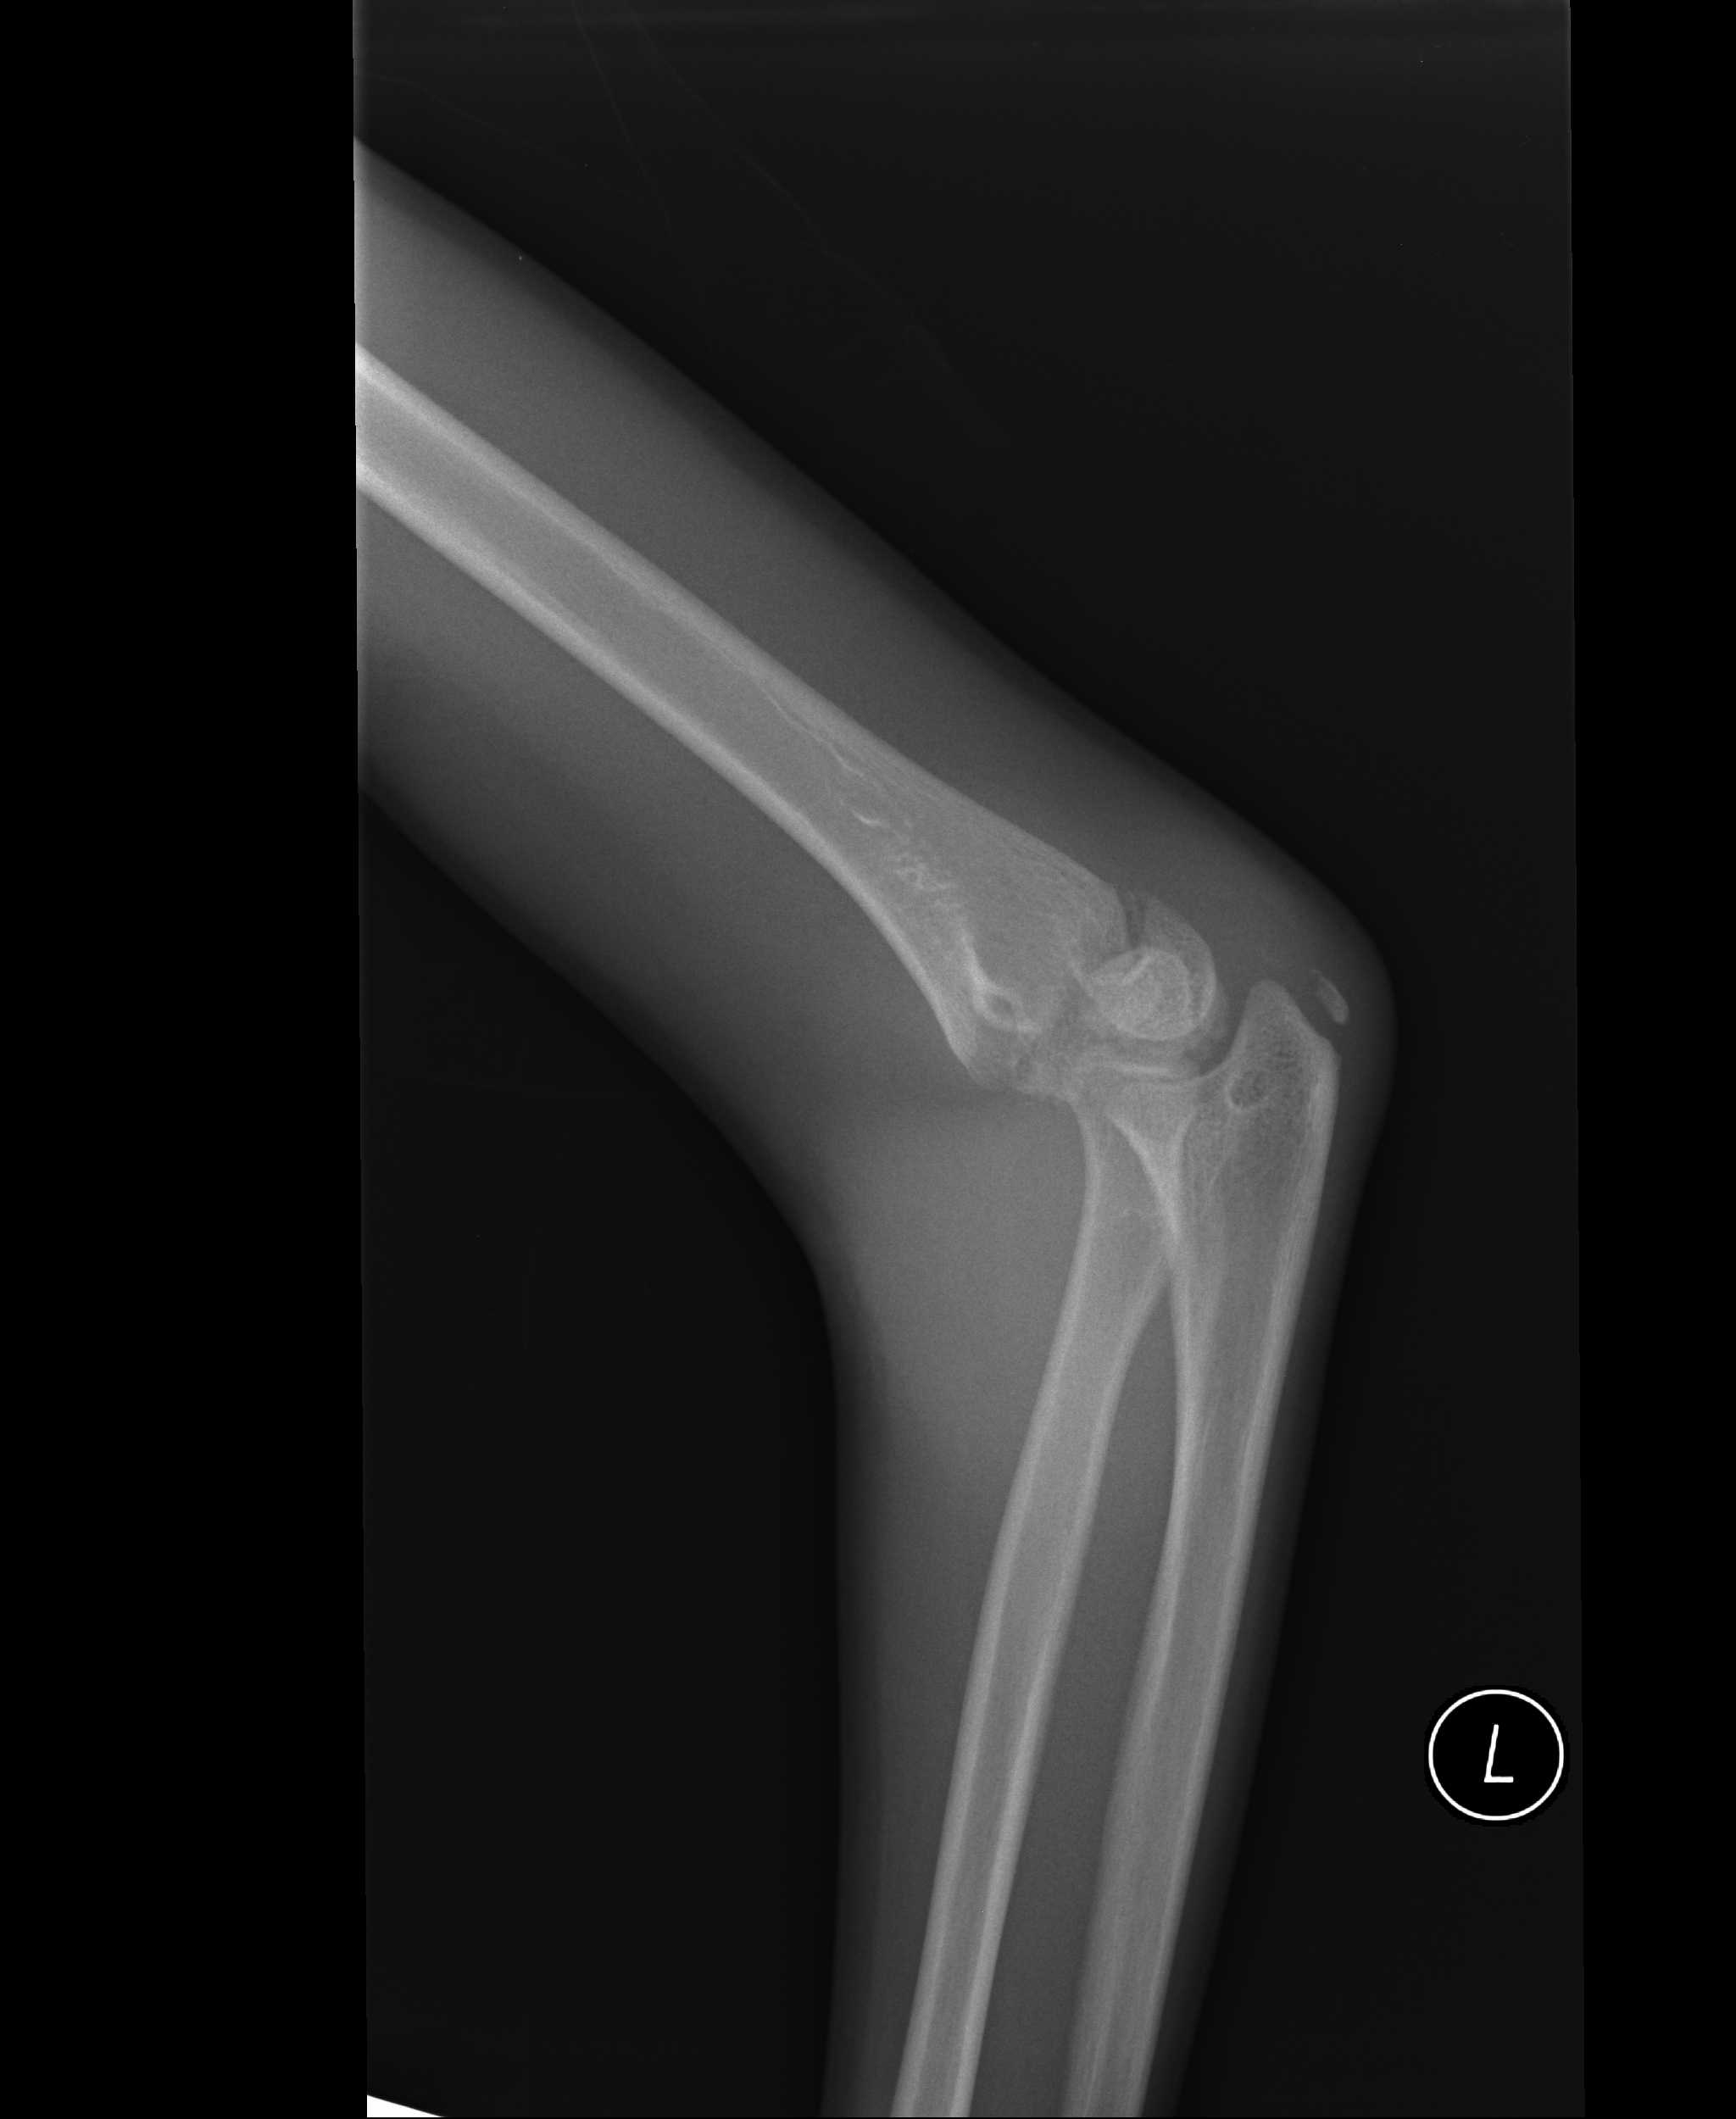SCF type 2: (695, 732, 1563, 1521)
